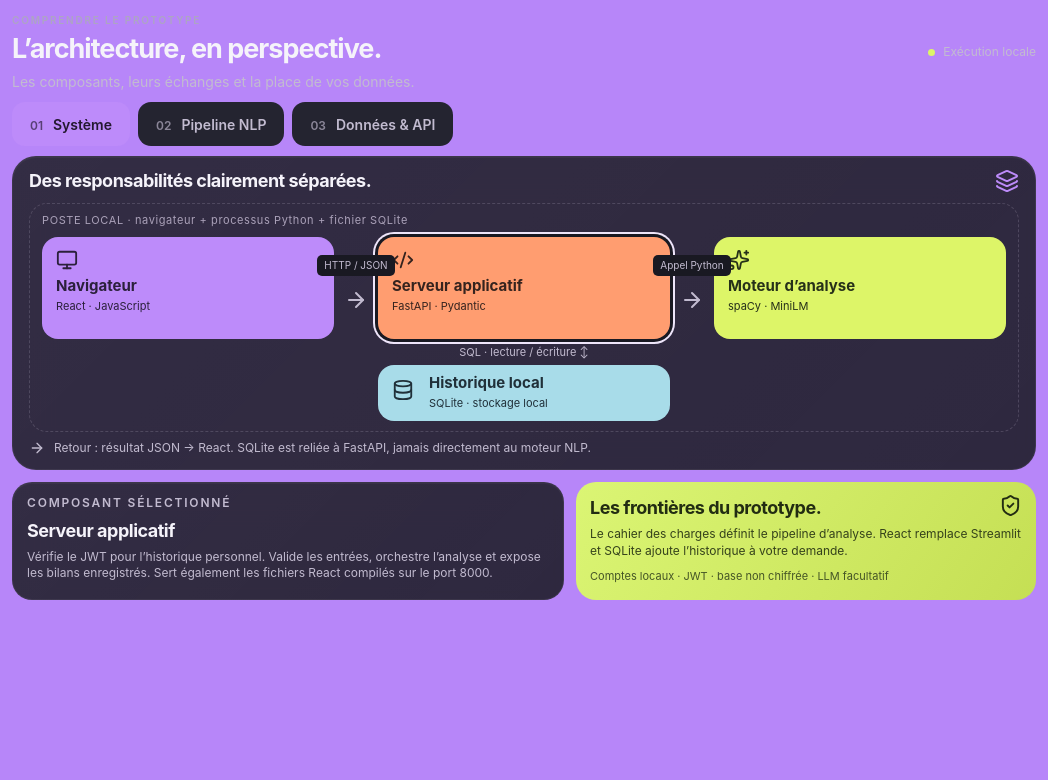
Test: switches engineering views and explains the selected storage component
Click the button "03Données & API" at (373, 124), box [292,102,453,146]
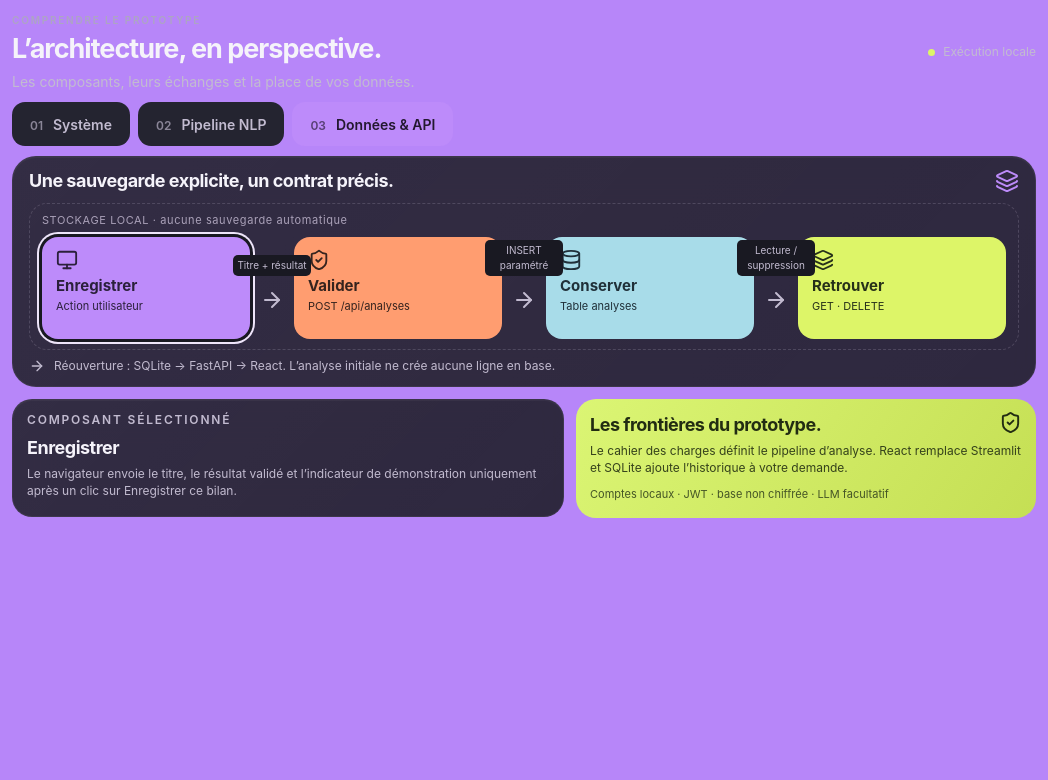
Click the button "Conserver Table analyses" at (650, 288), box [546,237,754,339]
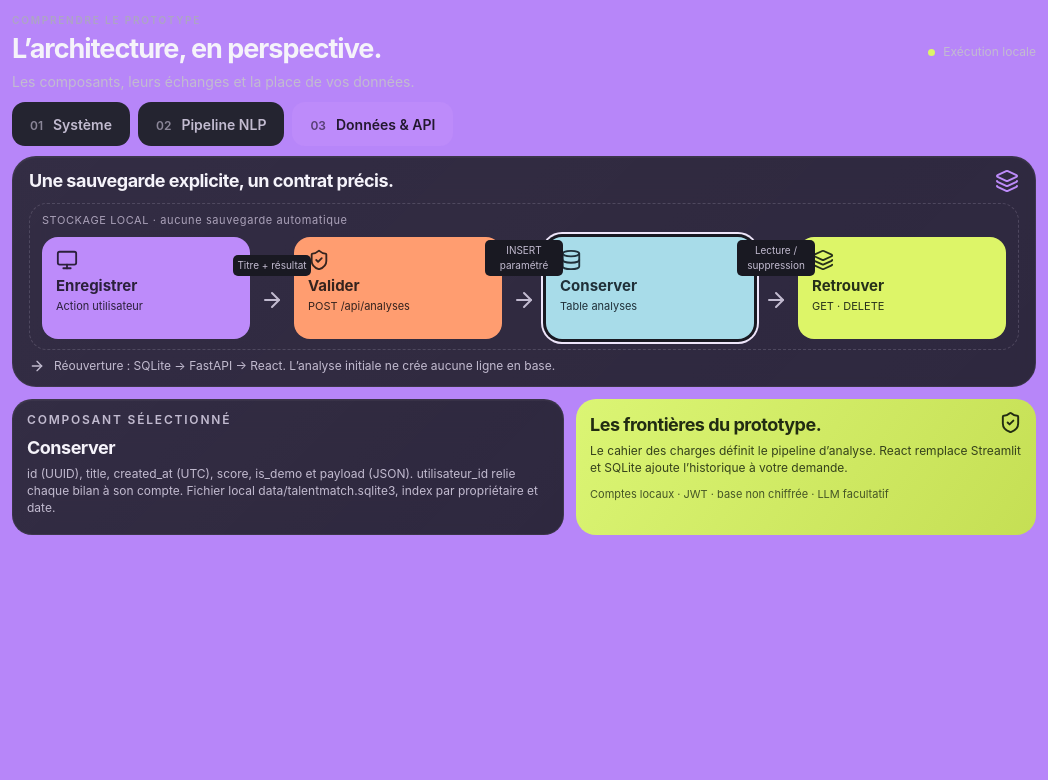
Check: the text "id (UUID), title" is shown, box [27,466,538,515]
Click the button "02Pipeline NLP" at (211, 124), box [138,102,284,146]
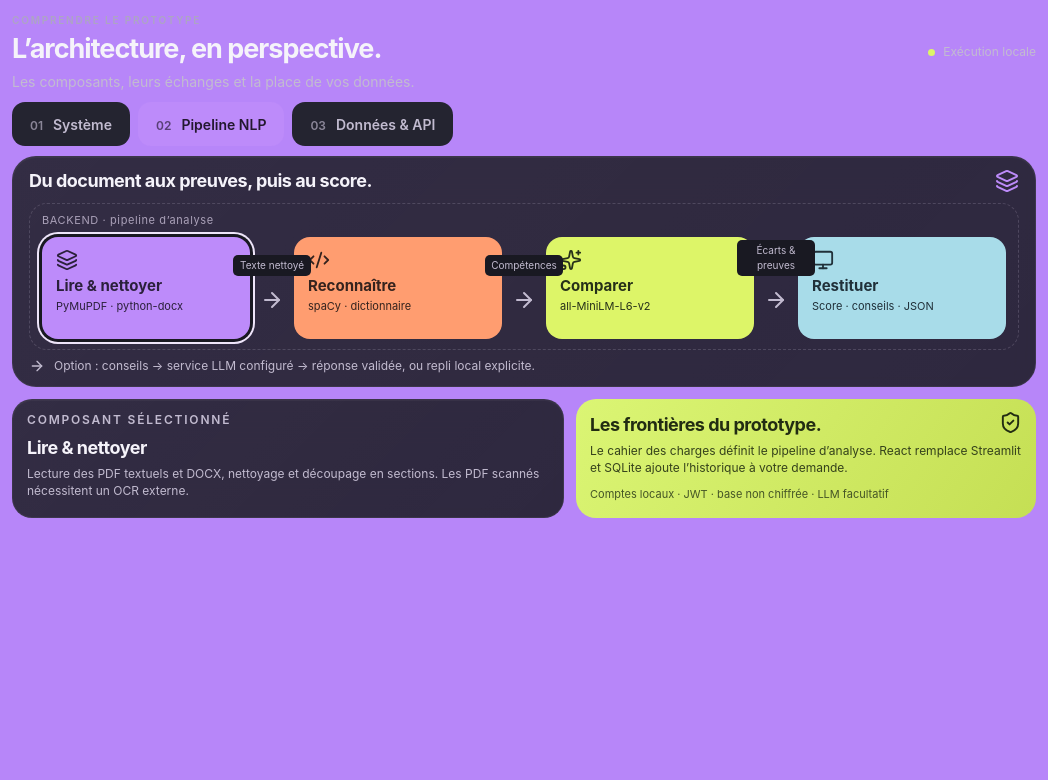
Check: the button "Comparer all-MiniLM-L6-v2" is shown, box [546,237,754,339]
